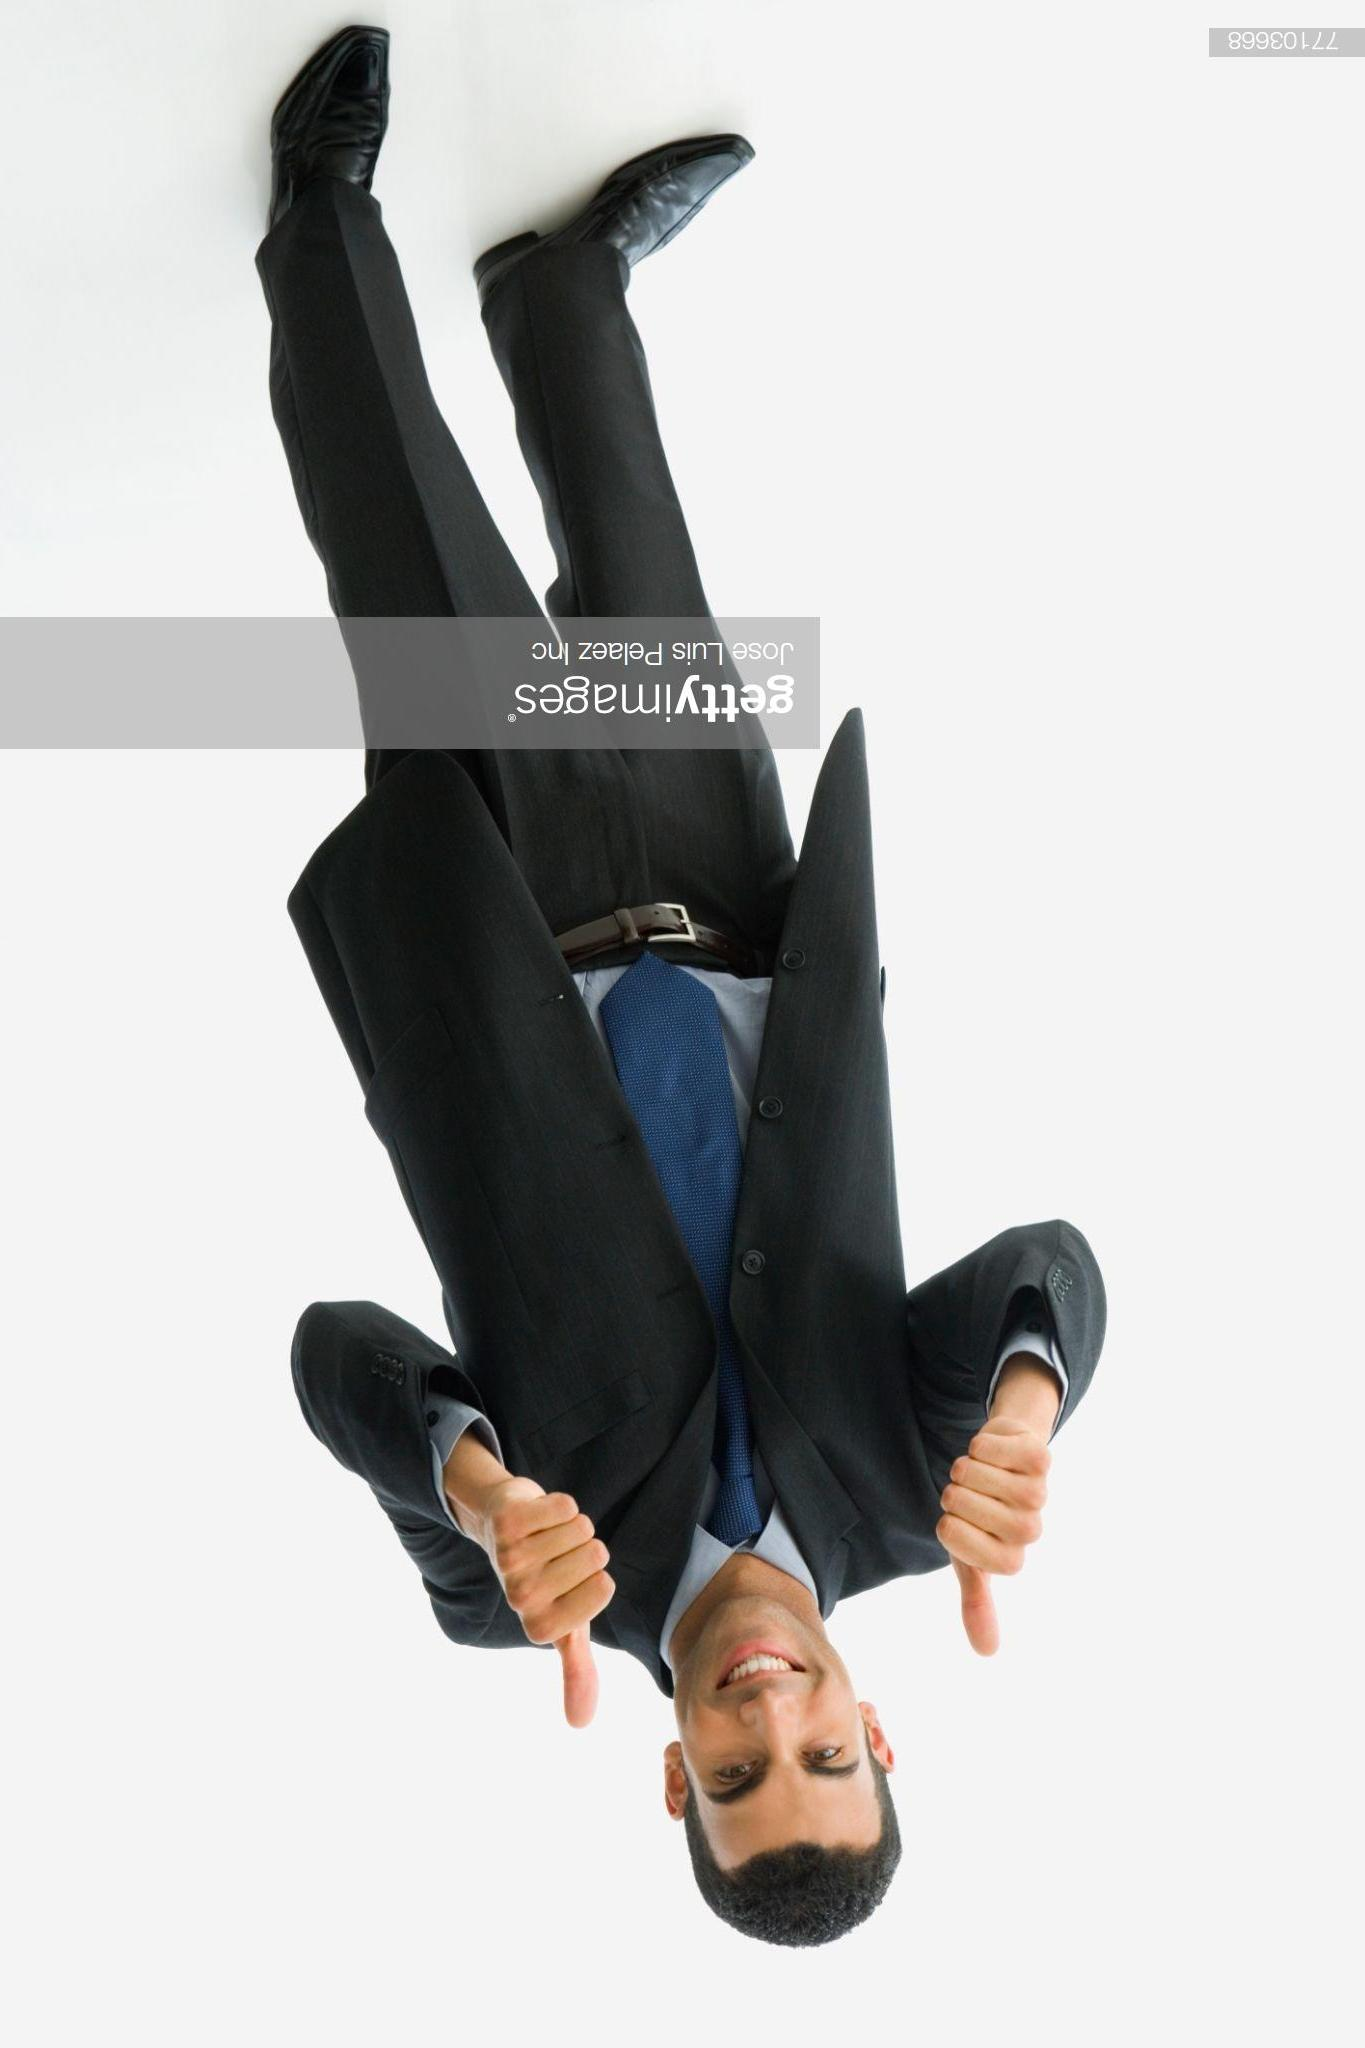thumbsdown: (491, 1491, 619, 1728), (934, 1431, 1053, 1658)
